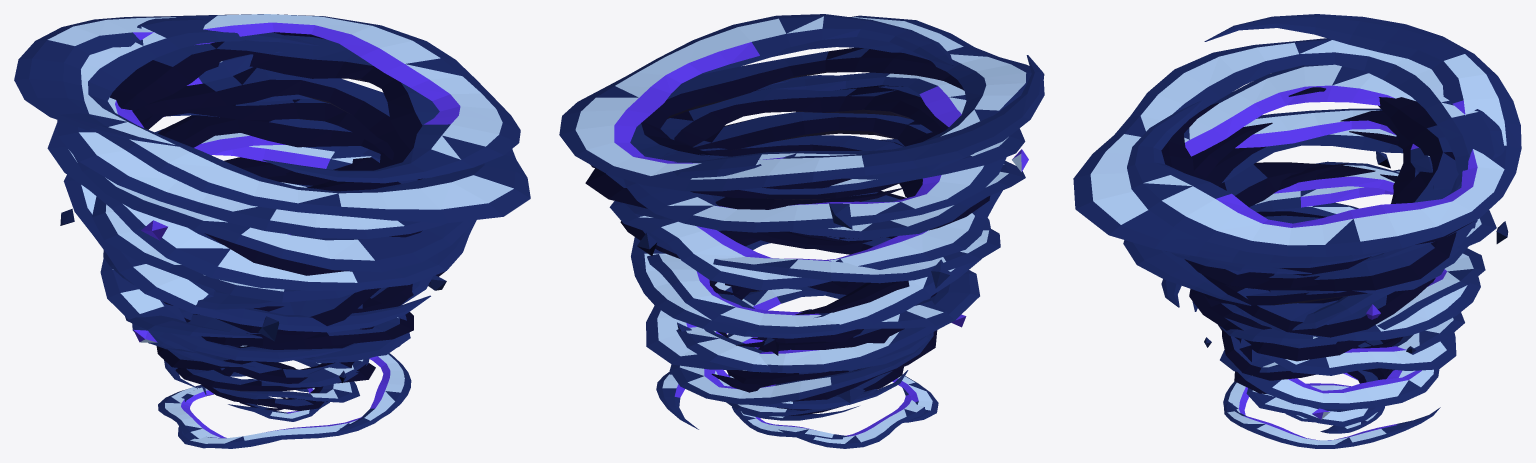
File: Hurricane.fbx
3 views of the same model, side by side, from view 1: azimuth 30°, elevation 25°; view 2: azimuth 150°, elevation 25°; view 3: azimuth 270°, elevation 25° (orthographic). The views are drawn at different scales.
Parts seen in each view (by area): view 1: Wind_Ribbon_29, Wind_Ribbon_28, Wind_Ribbon_27, Wind_Ribbon_26.001, Wind_Ribbon_22.002, Wind_Ribbon_24.001, Wind_Ribbon_18.002, Wind_Ribbon_25.001, Wind_Ribbon_20.002, Wind_Ribbon_23.001, Wind_Ribbon_21.002, Wind_Ribbon_14.003 (+18 smaller); view 2: Wind_Ribbon_29, Wind_Ribbon_28, Wind_Ribbon_24.001, Wind_Ribbon_27, Wind_Ribbon_20.002, Wind_Ribbon_25.001, Wind_Ribbon_23.001, Wind_Ribbon_12.003, Wind_Ribbon_26.001, Wind_Ribbon_16.003, Wind_Ribbon_14.003, Wind_Ribbon_08.004 (+17 smaller); view 3: Wind_Ribbon_29, Wind_Ribbon_28, Wind_Ribbon_26.001, Wind_Ribbon_19.002, Wind_Ribbon_27, Wind_Ribbon_23.001, Wind_Ribbon_22.002, Wind_Ribbon_08.004, Wind_Ribbon_18.002, Wind_Ribbon_24.001, Wind_Ribbon_12.003, Wind_Ribbon_14.003 (+13 smaller).
Part boxes in pixels (bbox=[...]): Wind_Ribbon_29: bbox=[14, 14, 520, 183]; Wind_Ribbon_28: bbox=[81, 17, 530, 222]; Wind_Ribbon_27: bbox=[110, 32, 450, 216]; Wind_Ribbon_26.001: bbox=[57, 47, 446, 238]; Wind_Ribbon_22.002: bbox=[47, 113, 476, 290]; Wind_Ribbon_24.001: bbox=[73, 94, 474, 272]; Wind_Ribbon_18.002: bbox=[63, 132, 430, 332]; Wind_Ribbon_25.001: bbox=[133, 67, 422, 237]; Wind_Ribbon_20.002: bbox=[92, 129, 380, 302]; Wind_Ribbon_23.001: bbox=[141, 99, 394, 275]; Wind_Ribbon_21.002: bbox=[158, 115, 392, 168]; Wind_Ribbon_14.003: bbox=[100, 182, 432, 362]; Wind_Ribbon_29: bbox=[559, 14, 1044, 191]; Wind_Ribbon_28: bbox=[637, 15, 1044, 179]; Wind_Ribbon_24.001: bbox=[623, 75, 1006, 232]; Wind_Ribbon_27: bbox=[591, 47, 963, 189]; Wind_Ribbon_20.002: bbox=[609, 139, 1002, 290]; Wind_Ribbon_25.001: bbox=[660, 87, 948, 200]; Wind_Ribbon_23.001: bbox=[585, 112, 936, 209]; Wind_Ribbon_12.003: bbox=[646, 240, 979, 372]; Wind_Ribbon_26.001: bbox=[663, 72, 1025, 194]; Wind_Ribbon_16.003: bbox=[631, 218, 991, 338]; Wind_Ribbon_14.003: bbox=[647, 254, 952, 333]; Wind_Ribbon_08.004: bbox=[669, 288, 933, 404]; Wind_Ribbon_29: bbox=[1127, 14, 1521, 256]; Wind_Ribbon_28: bbox=[1073, 38, 1504, 267]; Wind_Ribbon_26.001: bbox=[1172, 64, 1444, 273]; Wind_Ribbon_19.002: bbox=[1211, 162, 1435, 337]; Wind_Ribbon_27: bbox=[1161, 87, 1473, 244]; Wind_Ribbon_23.001: bbox=[1185, 131, 1456, 291]; Wind_Ribbon_22.002: bbox=[1123, 129, 1477, 305]; Wind_Ribbon_08.004: bbox=[1237, 369, 1439, 409]; Wind_Ribbon_18.002: bbox=[1161, 169, 1475, 331]; Wind_Ribbon_24.001: bbox=[1164, 108, 1485, 263]; Wind_Ribbon_12.003: bbox=[1261, 332, 1456, 375]; Wind_Ribbon_14.003: bbox=[1192, 248, 1485, 344].
Size of the model in its own units: 1135 by 882 by 1173.
